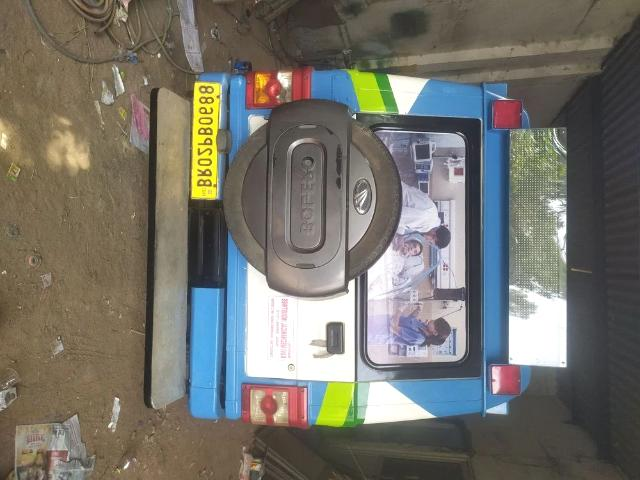ambulance: (91, 60, 580, 432)
